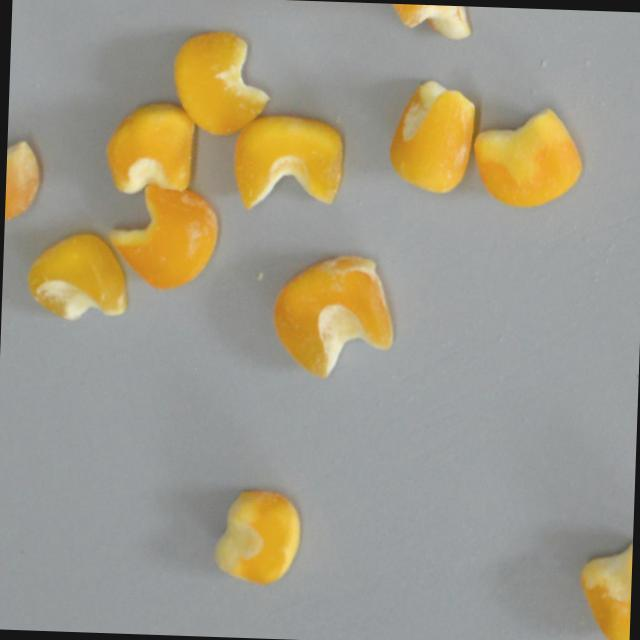no_canjicado: (107, 180, 220, 295), (468, 104, 583, 210), (228, 112, 344, 215), (166, 29, 273, 136), (384, 77, 475, 194), (21, 231, 128, 325), (102, 98, 195, 195), (212, 486, 302, 586), (575, 531, 633, 640)
pelicula: (265, 249, 394, 380), (3, 118, 39, 228), (376, 2, 472, 42)
